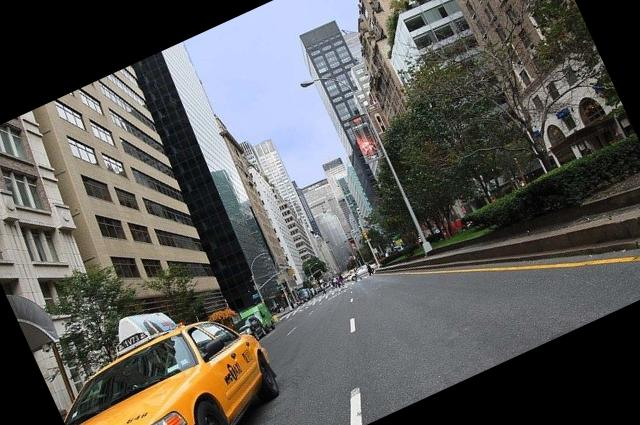taxi: (35, 314, 280, 425)
